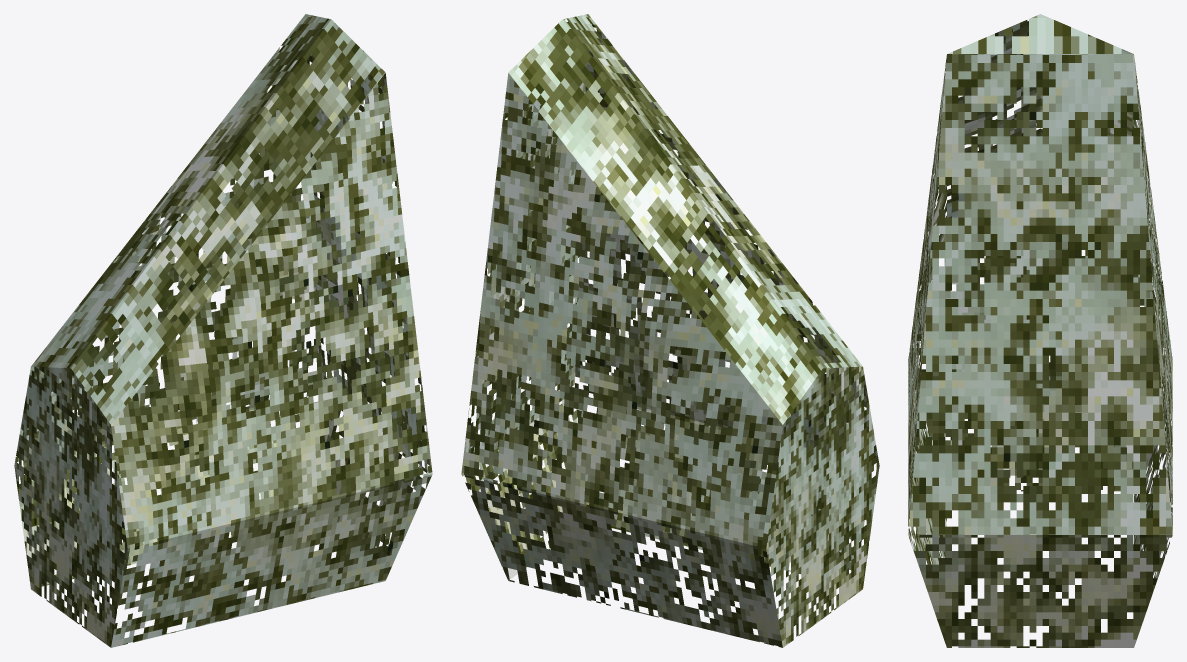
Rendered from bush_connector_high_half_end_winter.glb.
3 views of the same model, side by side, from view 1: azimuth 30°, elevation 25°; view 2: azimuth 150°, elevation 25°; view 3: azimuth 270°, elevation 25° (orthographic). The views are drawn at different scales.
Parts seen in each view (by area): view 1: bush_connector_high_half_end_winter; view 2: bush_connector_high_half_end_winter; view 3: bush_connector_high_half_end_winter.
Part boxes in pixels (x1,y1,x2,y2): bush_connector_high_half_end_winter: (14,14,432,647); bush_connector_high_half_end_winter: (461,14,879,647); bush_connector_high_half_end_winter: (908,14,1172,647).
Bounding box in the file's own units: 1.12 × 1.88 × 0.7191.
1 material, 1 textured.
